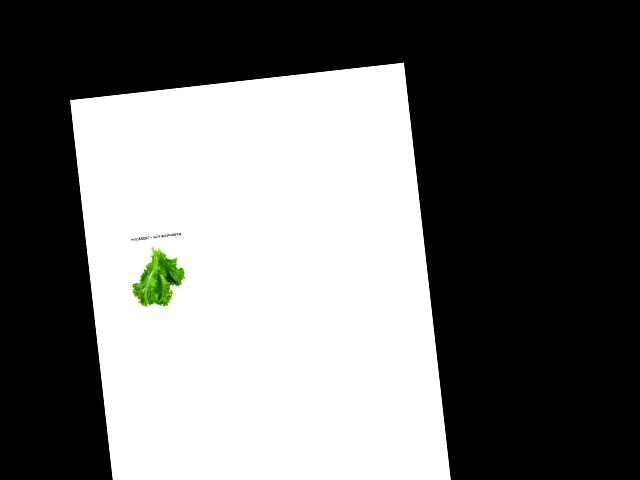lettuce: (128, 240, 189, 310)
